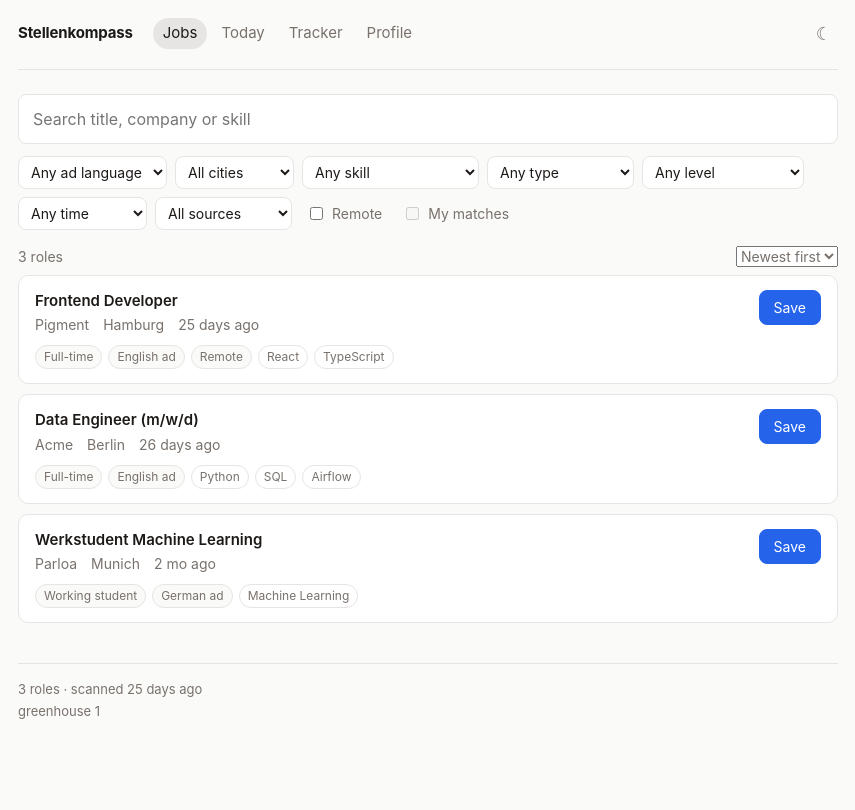
App › adds keywords and filters to matches
Expected: the text "3 roles" is shown, [18,246,63,266]
Click the link "Profile". click: click(389, 32)
box: [366,23,412,42]
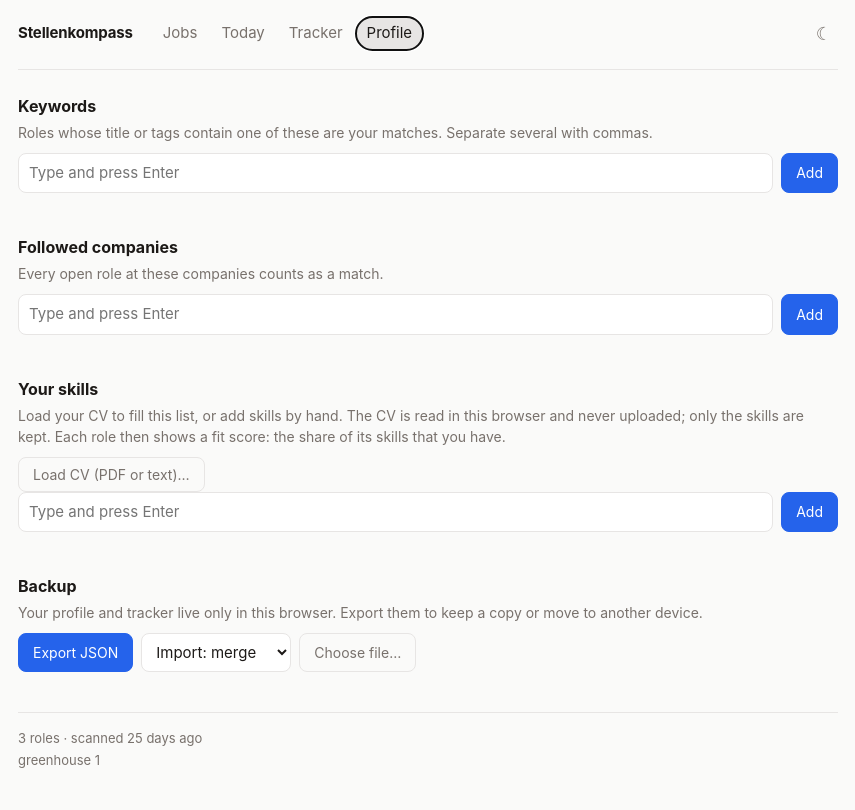
Type "machine learning" into the field named "Add keywords". click: (396, 173)
box: [18,152,773,193]
Then press Enter
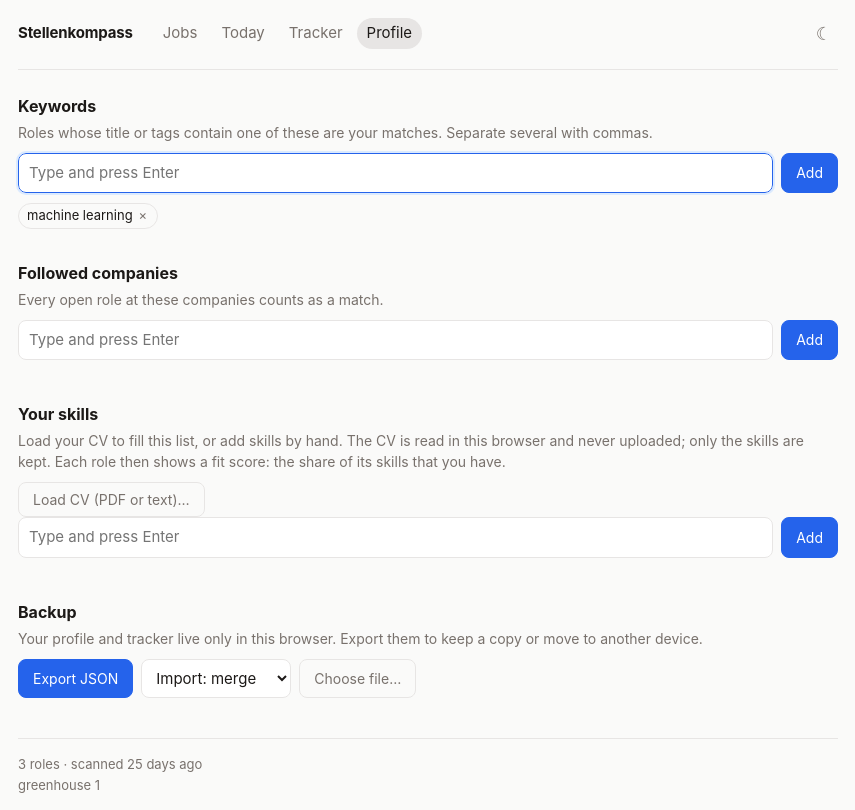
Expected: the button named "Remove machine learning" is shown, [137,206,149,226]
Click the link "Jobs". click: click(180, 32)
box: [163,23,198,42]
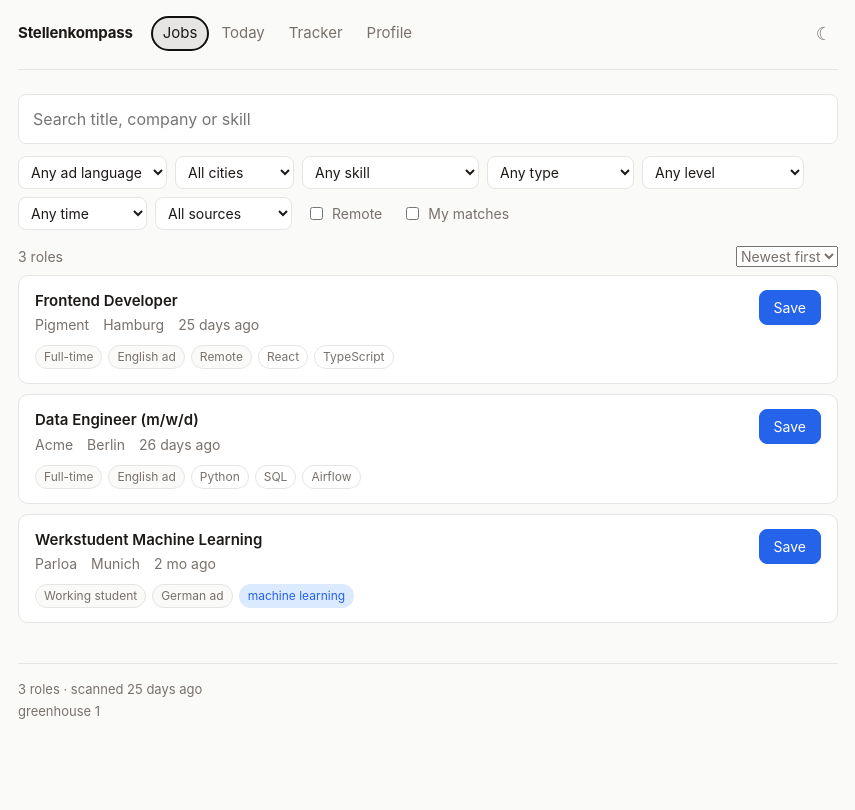
Click the checkbox labelled "My matches". click: click(413, 213)
box: [406,206,419,220]
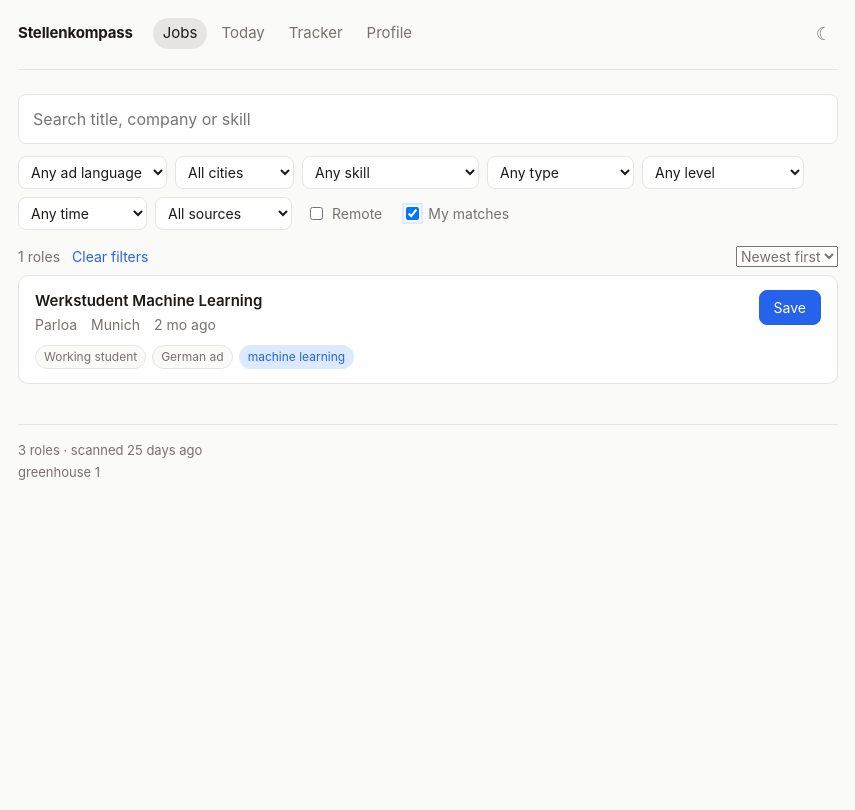
Expected: the text "machine learning" is shown, [239,345,354,369]
Expected: the text "1 roles" is shown, [18,246,148,266]
